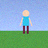person: (20, 10, 32, 33)
